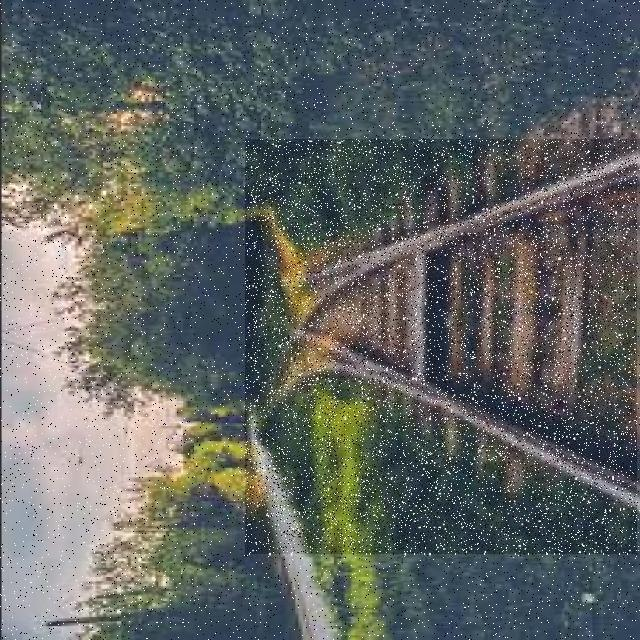rail: (247, 141, 638, 555)
